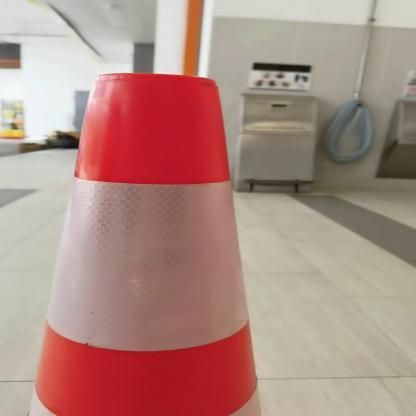cone: (25, 63, 280, 416)
